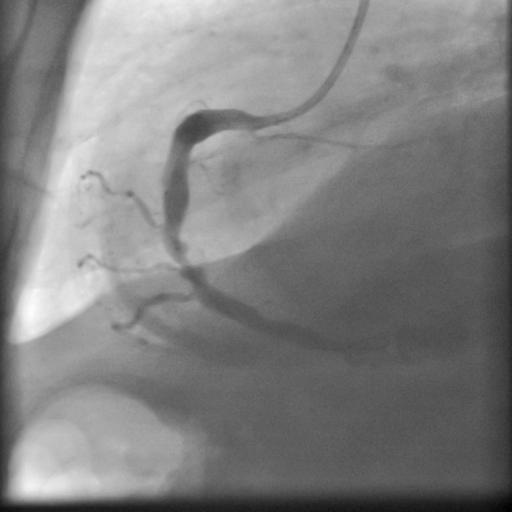Stenosis: (162, 220, 198, 274)
